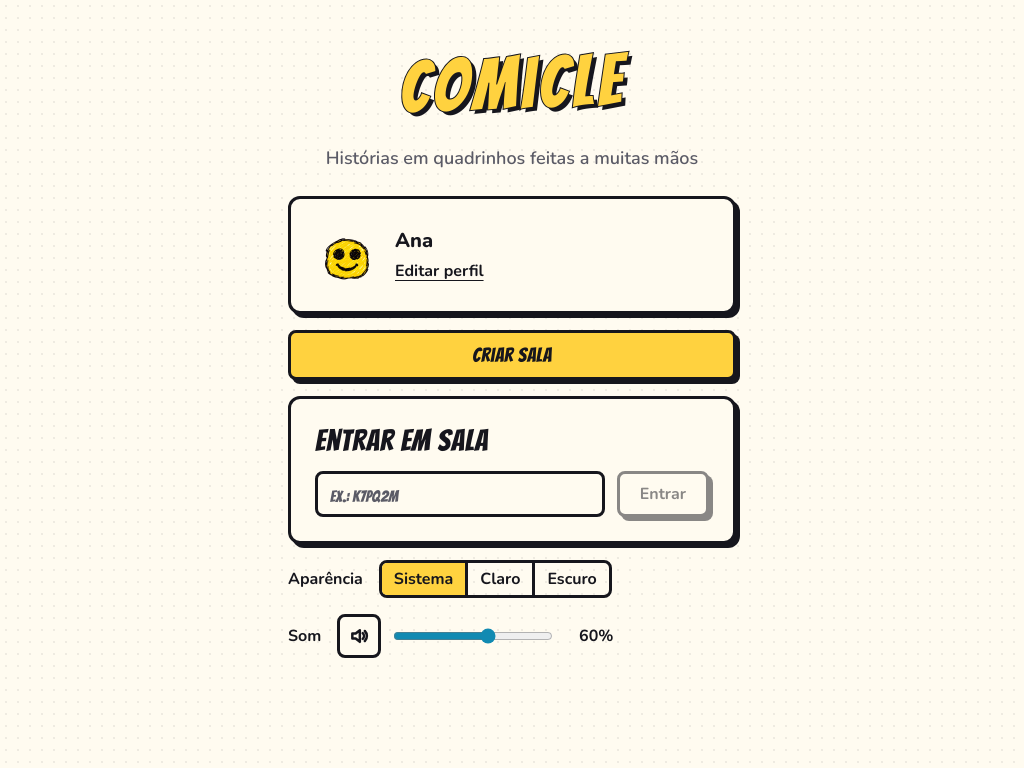
tela inicial › erro ao criar sala aparece como aviso
Click the button "Criar sala" at (512, 355), box x1=288 y1=330 x2=736 y2=380
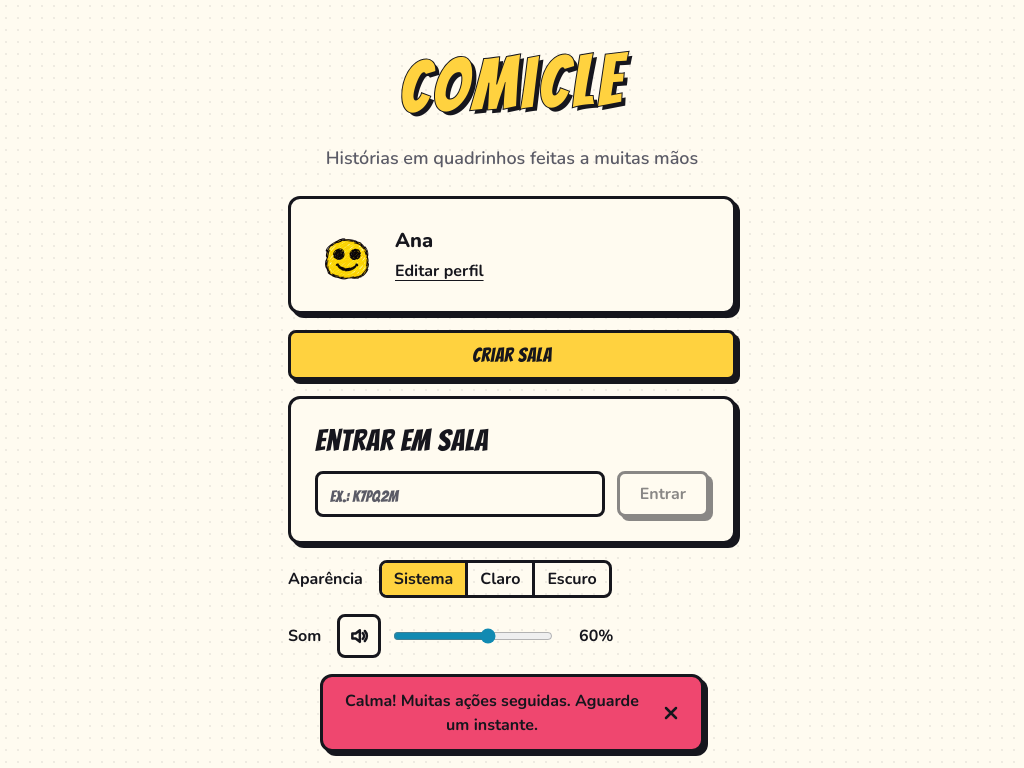
Expected: the message shows "Calma!", x1=345 y1=690 x2=639 y2=736
